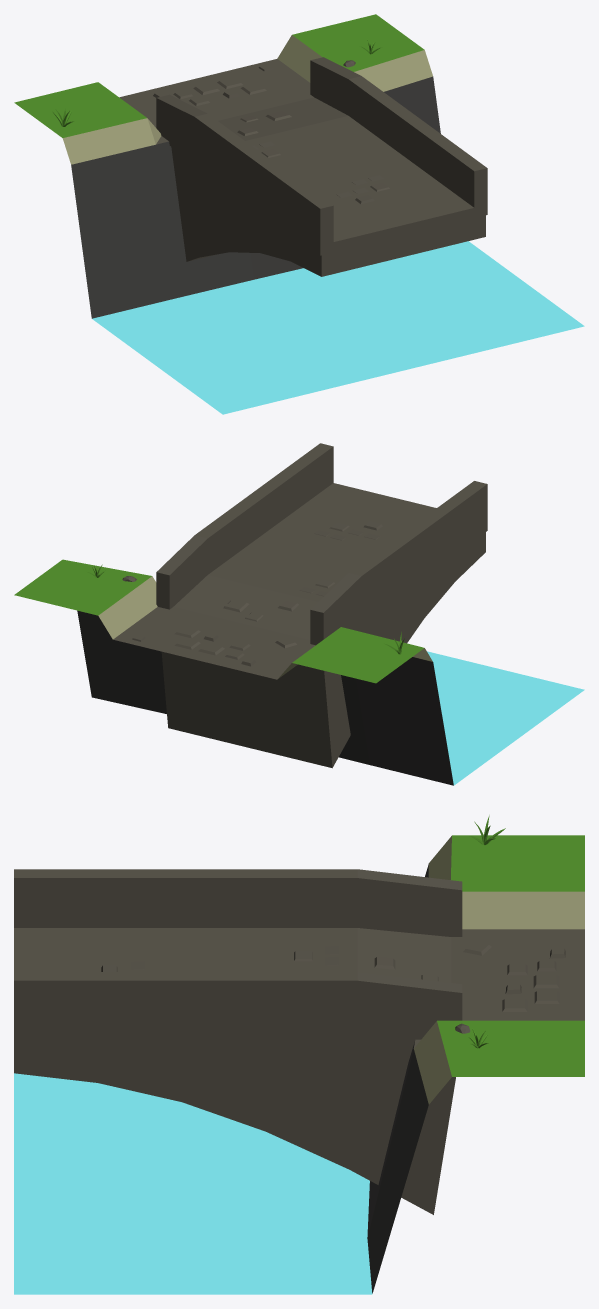
The model's file is Water_Bridge.fbx.
3 views of the same model, one above another, from view 1: azimuth 30°, elevation 25°; view 2: azimuth 150°, elevation 25°; view 3: azimuth 270°, elevation 25° (orthographic). The views are drawn at different scales.
Visible parts, largest first — view 1: Water_Bridge; view 2: Water_Bridge; view 3: Water_Bridge.
Boxes of the visible parts, box(x1,y1,x2,y2) form: Water_Bridge: box(14, 14, 584, 414); Water_Bridge: box(14, 443, 584, 785); Water_Bridge: box(14, 815, 584, 1294).
Size of the model in its own units: 500 by 240 by 499.
